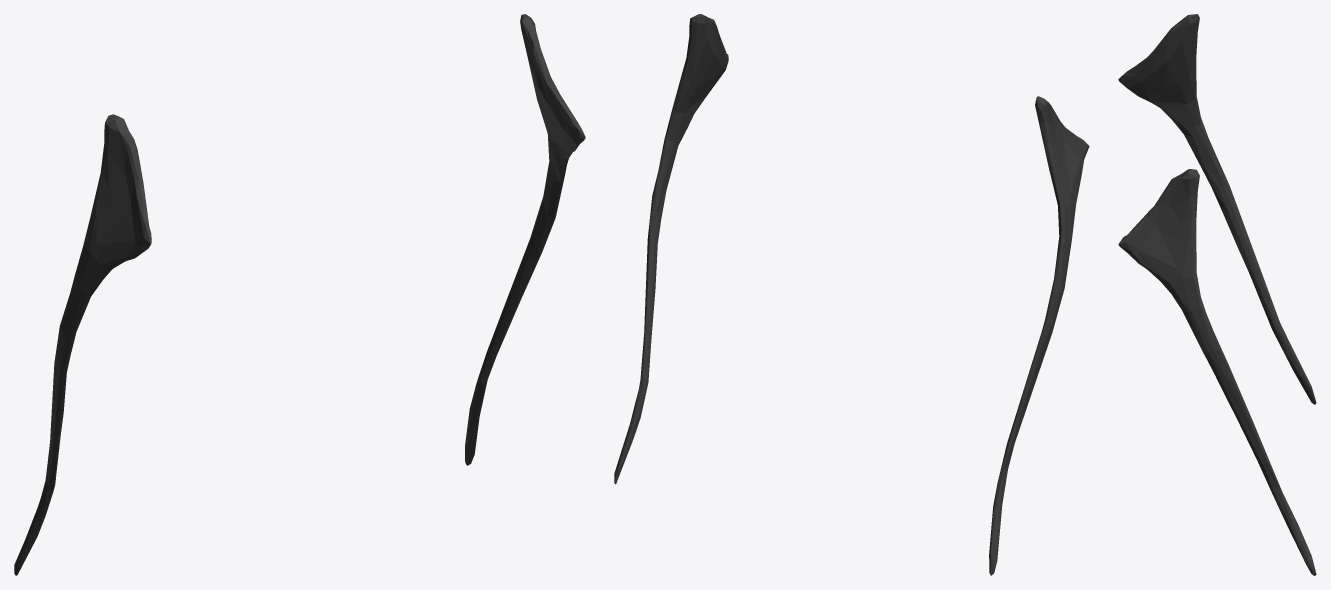
File: tendon_tarsal_semitendinosus.glb
The picture shows the model from 3 angles, left to right: view 1: azimuth 30°, elevation 25°; view 2: azimuth 150°, elevation 25°; view 3: azimuth 270°, elevation 25°; orthographic projection. The views are drawn at different scales.
Visible parts, largest first — view 1: tendon_tarsal_semitendinosus; view 2: tendon_tarsal_semitendinosus; view 3: tendon_tarsal_semitendinosus.
Part boxes in pixels (x1=…): tendon_tarsal_semitendinosus: x1=14, y1=14, x2=585, y2=575; tendon_tarsal_semitendinosus: x1=614, y1=14, x2=1089, y2=575; tendon_tarsal_semitendinosus: x1=1118, y1=14, x2=1316, y2=575.
Bounding box in the file's own units: 0.00405 × 0.00406 × 0.00183.
1 material, 1 textured.
